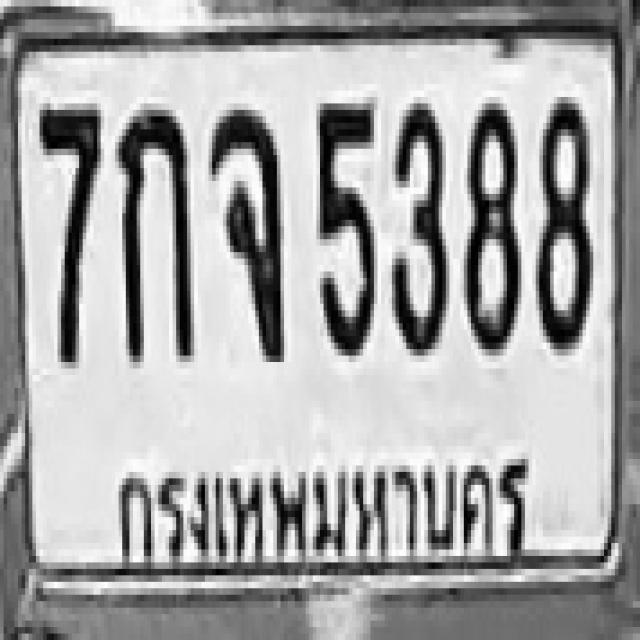10GorGai: (115, 104, 191, 356)
17ChorChan: (208, 104, 280, 356)
3: (388, 97, 446, 349)
5: (315, 97, 372, 349)
7: (36, 97, 97, 362)
8: (460, 97, 518, 349), (532, 90, 590, 342)
Bangkok: (111, 448, 534, 594)
